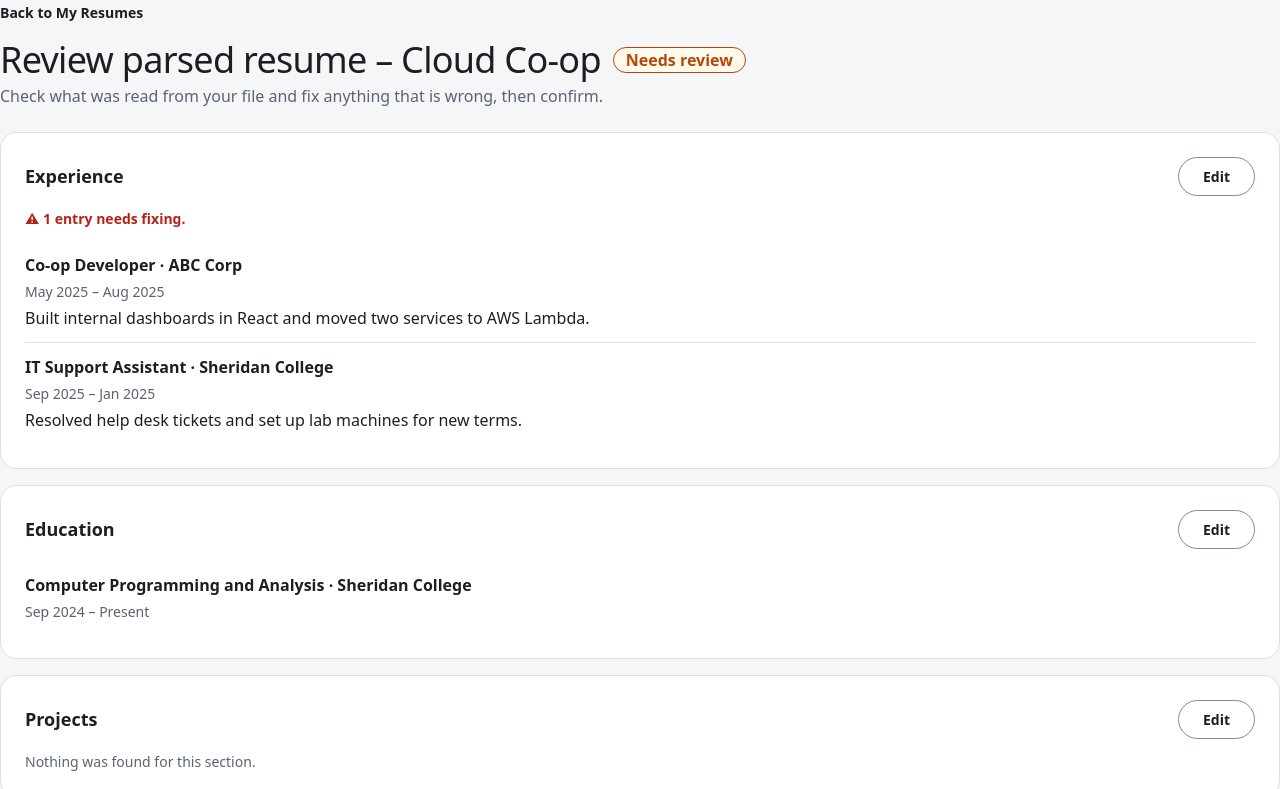
Test case: fixing the date clears the error, and Save updates the page
Click the button "Edit" in the row of "Experience" at (1216, 177), box 1178,157 -> 1255,196
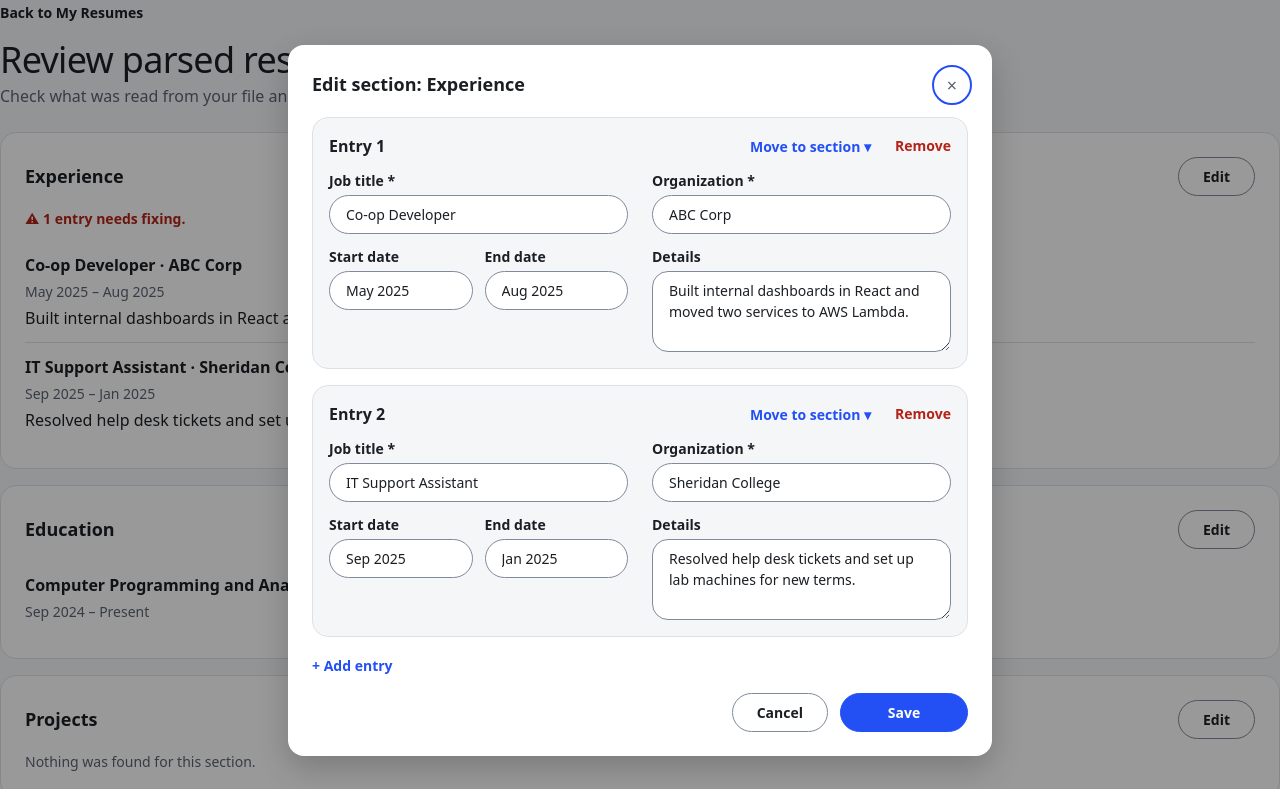
Click the button "Save" at (904, 712), box 840,692 -> 968,732
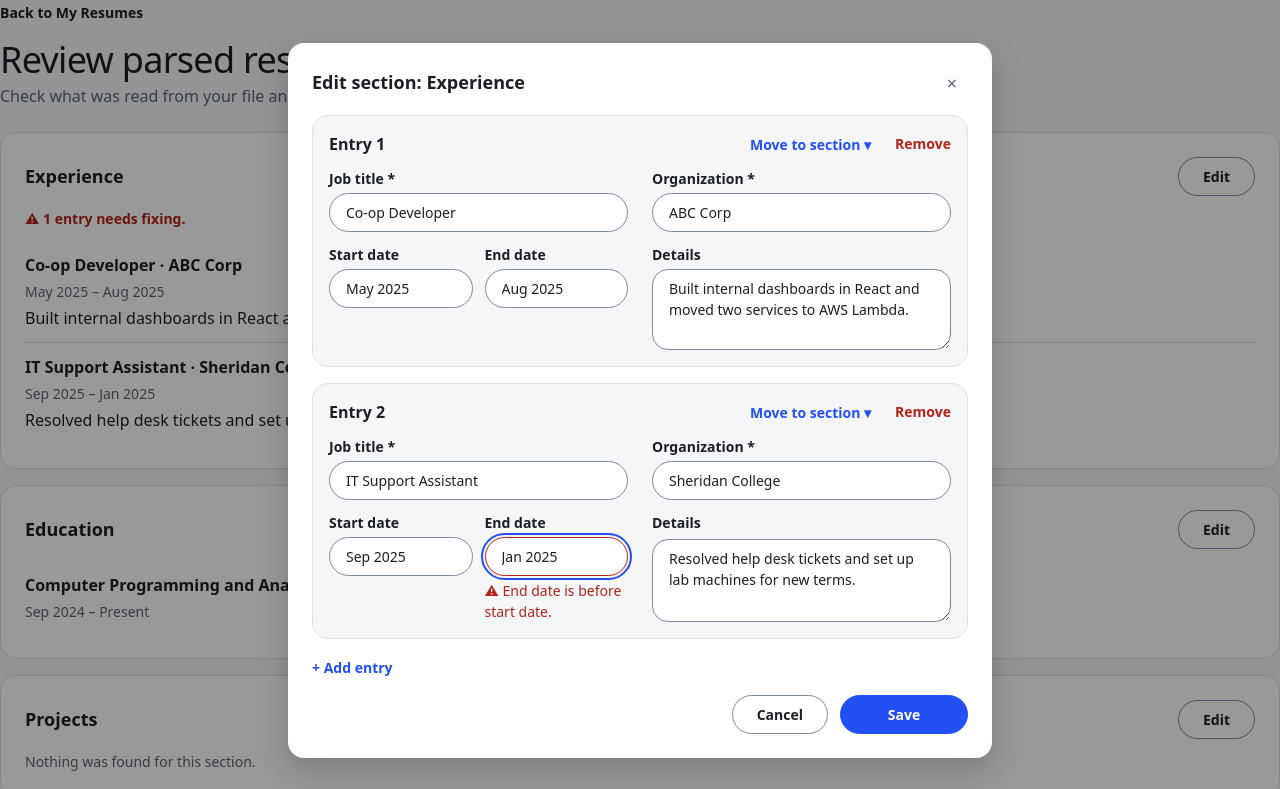
Replace the text in the 2nd field labelled "End date" with "Jan 2026" at (556, 556), box 484,536 -> 628,576
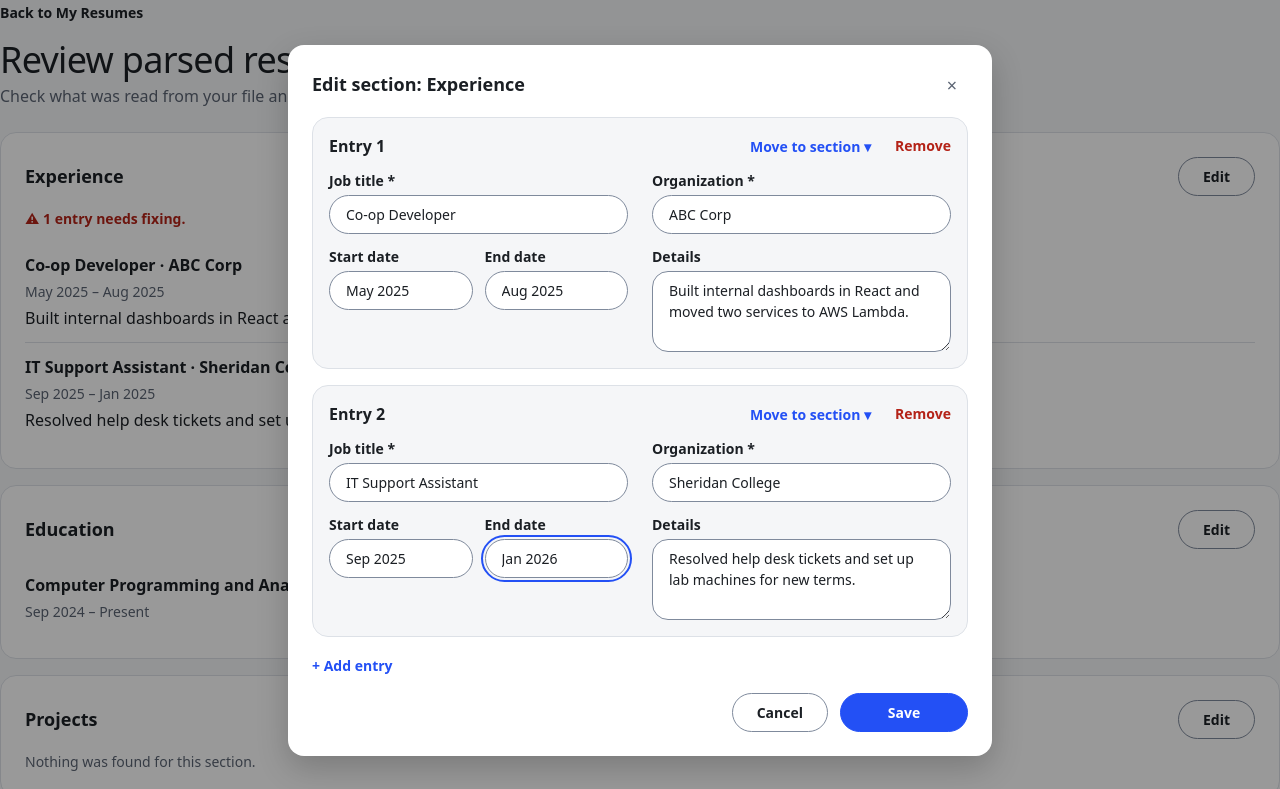
Click the button "Save" at (904, 712), box 840,692 -> 968,732
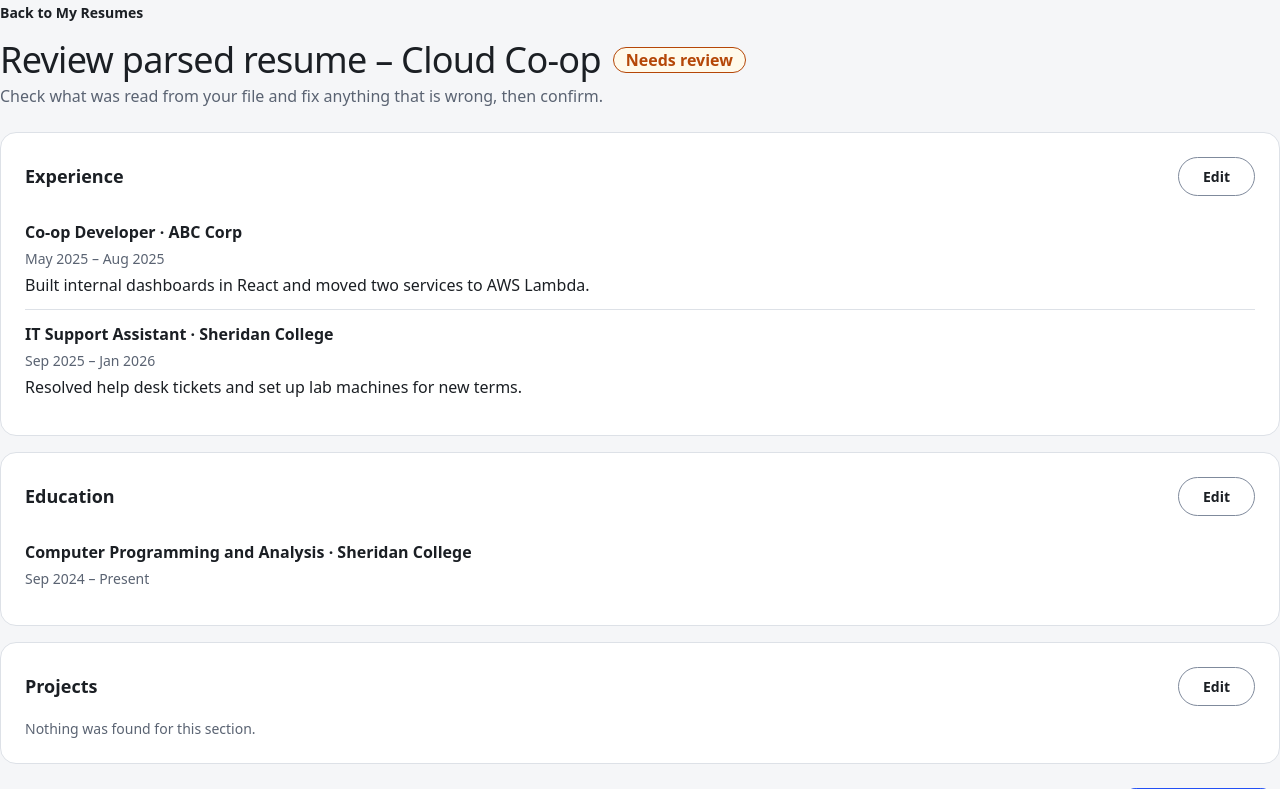
Expected: the dialog is gone
Expected: the text "Sep 2025 – Jan 2026" is shown, 25,351 -> 155,370
Expected: the text "needs fixing" is gone
